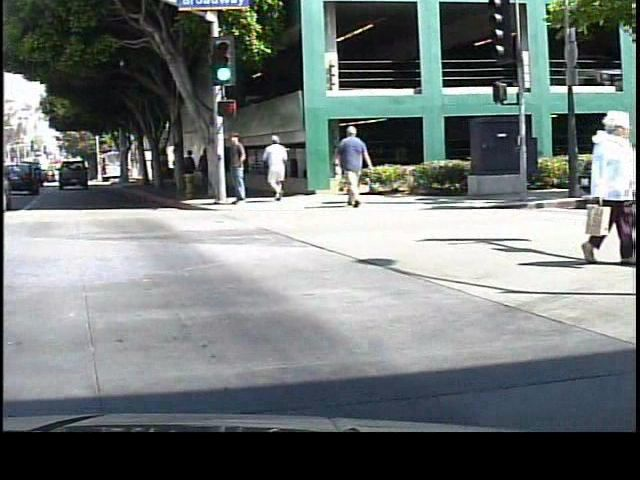person: (564, 105, 637, 272), (334, 122, 375, 207), (224, 129, 254, 212), (259, 130, 289, 203), (186, 141, 207, 193), (180, 147, 196, 194)
